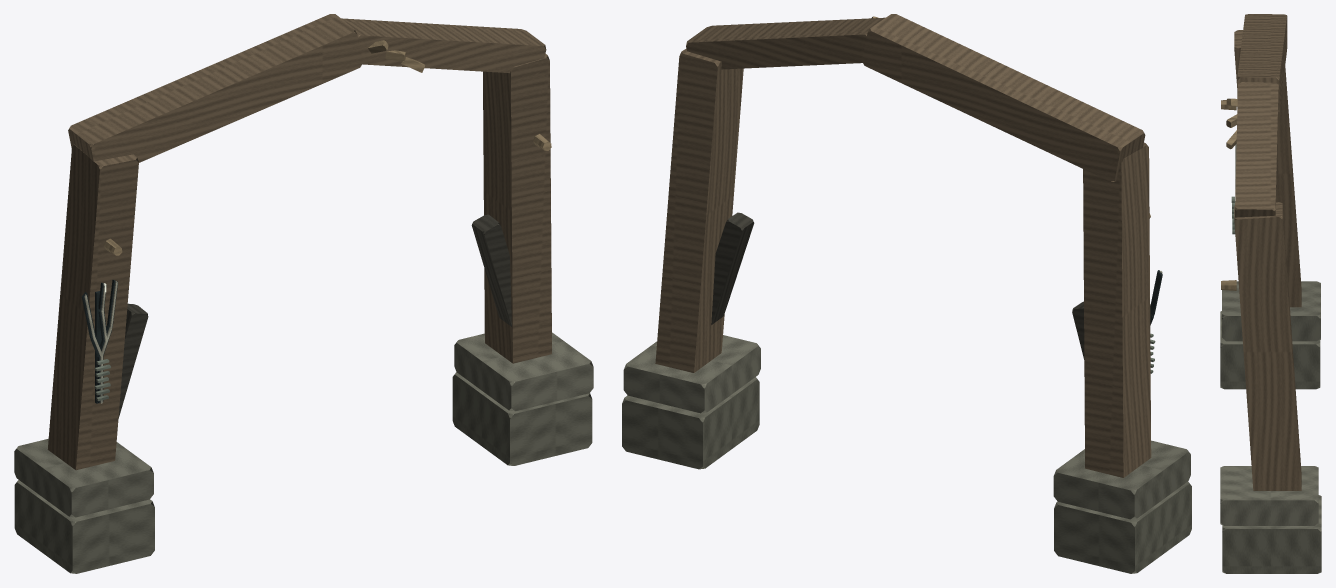
Rendered from cataclysm_rootvault_frame.glb.
3 renders of one model, left to right at view 1: azimuth 30°, elevation 25°; view 2: azimuth 150°, elevation 25°; view 3: azimuth 270°, elevation 25°, orthographic. The views are drawn at different scales.
Visible parts, largest first — view 1: cataclysm_rootvault_frame; view 2: cataclysm_rootvault_frame; view 3: cataclysm_rootvault_frame.
Part boxes in pixels (x1,y1,x2,y2): cataclysm_rootvault_frame: (14, 14, 593, 573); cataclysm_rootvault_frame: (622, 14, 1191, 573); cataclysm_rootvault_frame: (1220, 14, 1321, 573).
Size of the model in its own units: 3.32 by 2.84 by 0.6514.
Materials: 4 (4 with a texture image).
